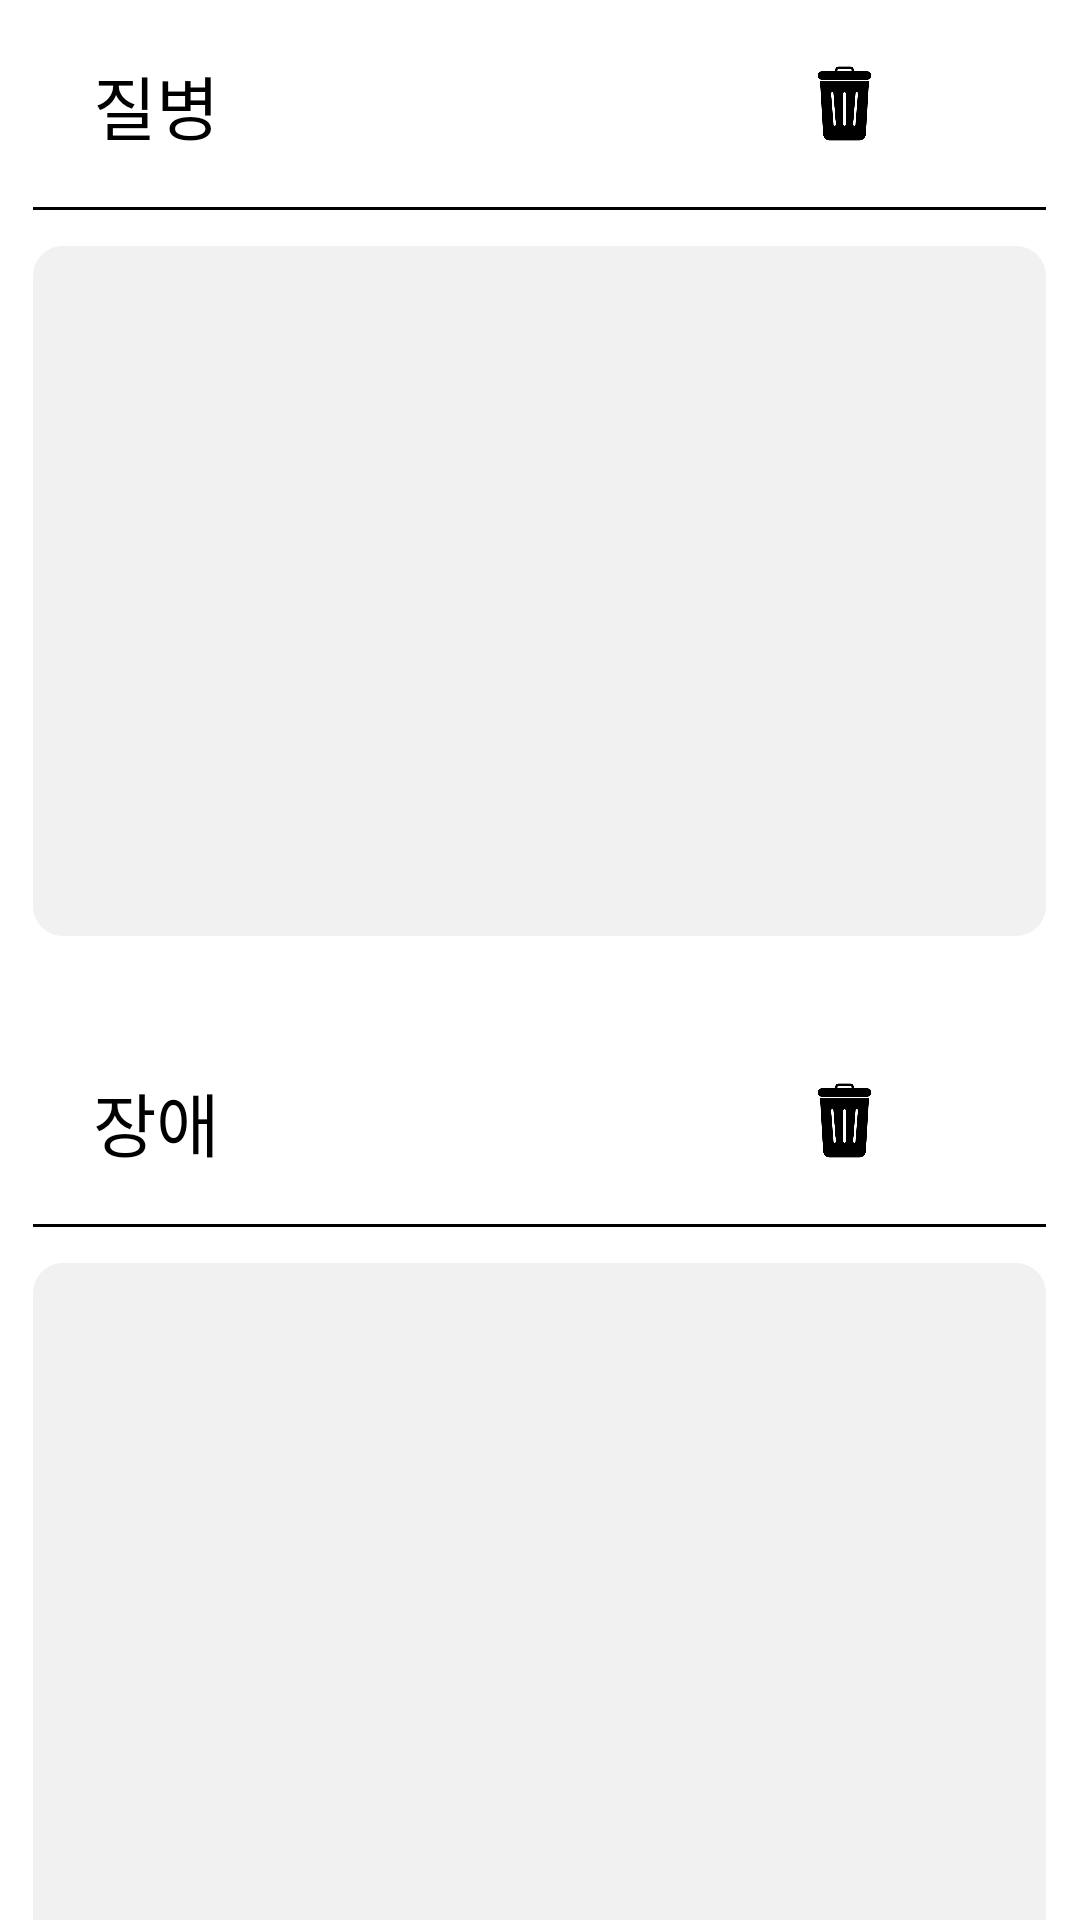

Point at icon controls on the screen. Image size 1080×1920, points as point (x, y).
setting menu delete: point (844, 103), point (844, 1120)
